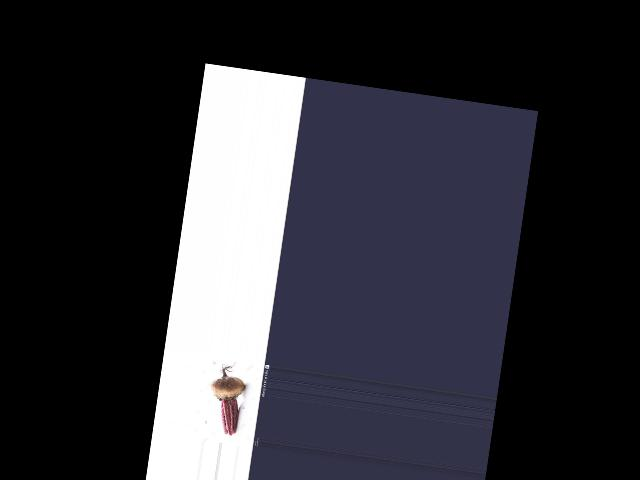beet: (204, 359, 248, 436)
